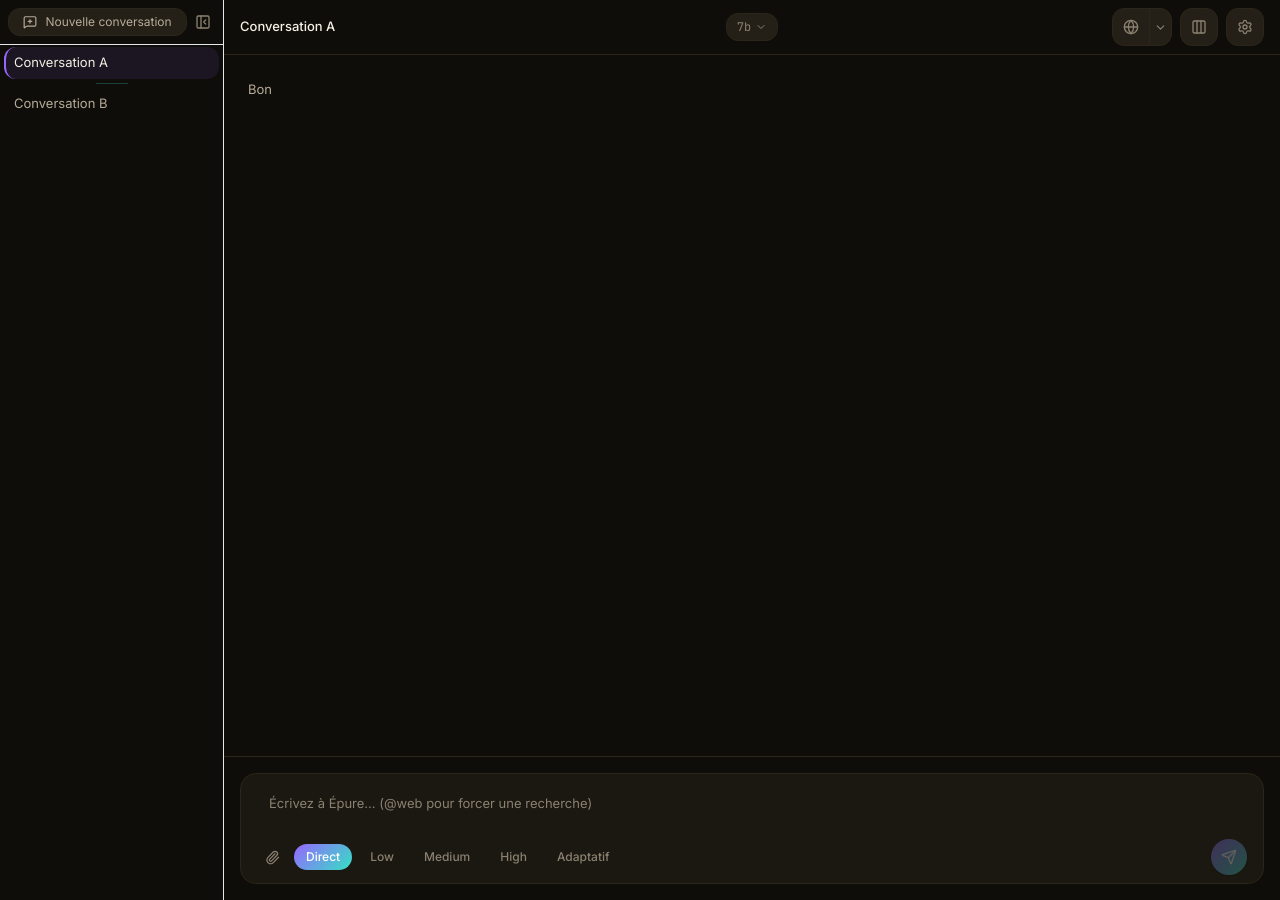
Test: Chat — étanchéité entre conversations › retour APRÈS le `done` : la relecture normale (bascule de fil) suffit déjà
Click the button titled "Conversation B". click: click(92, 103)
box: left=14, top=94, right=171, bottom=113
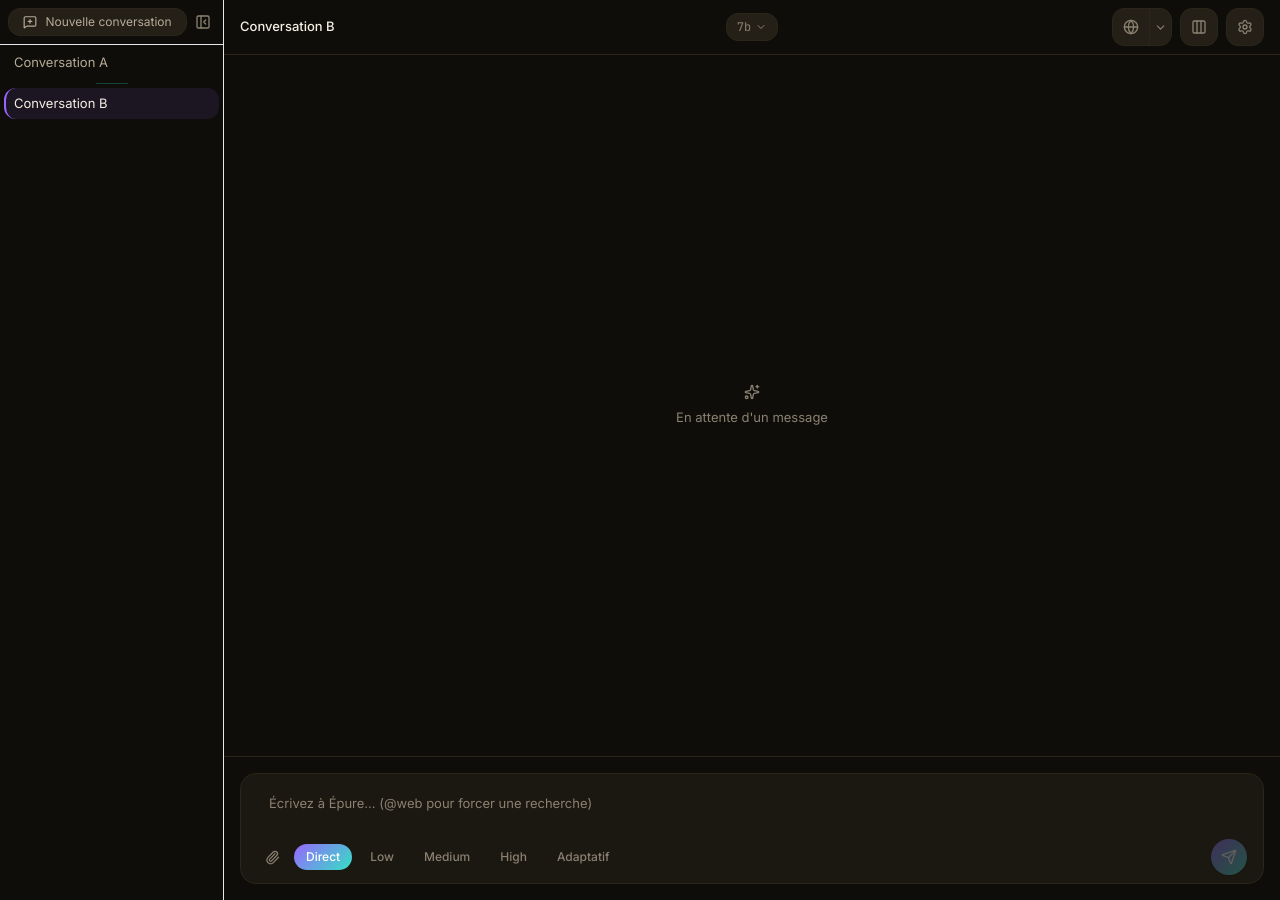
Click the button titled "Conversation A". click: click(92, 63)
box: left=14, top=53, right=171, bottom=72
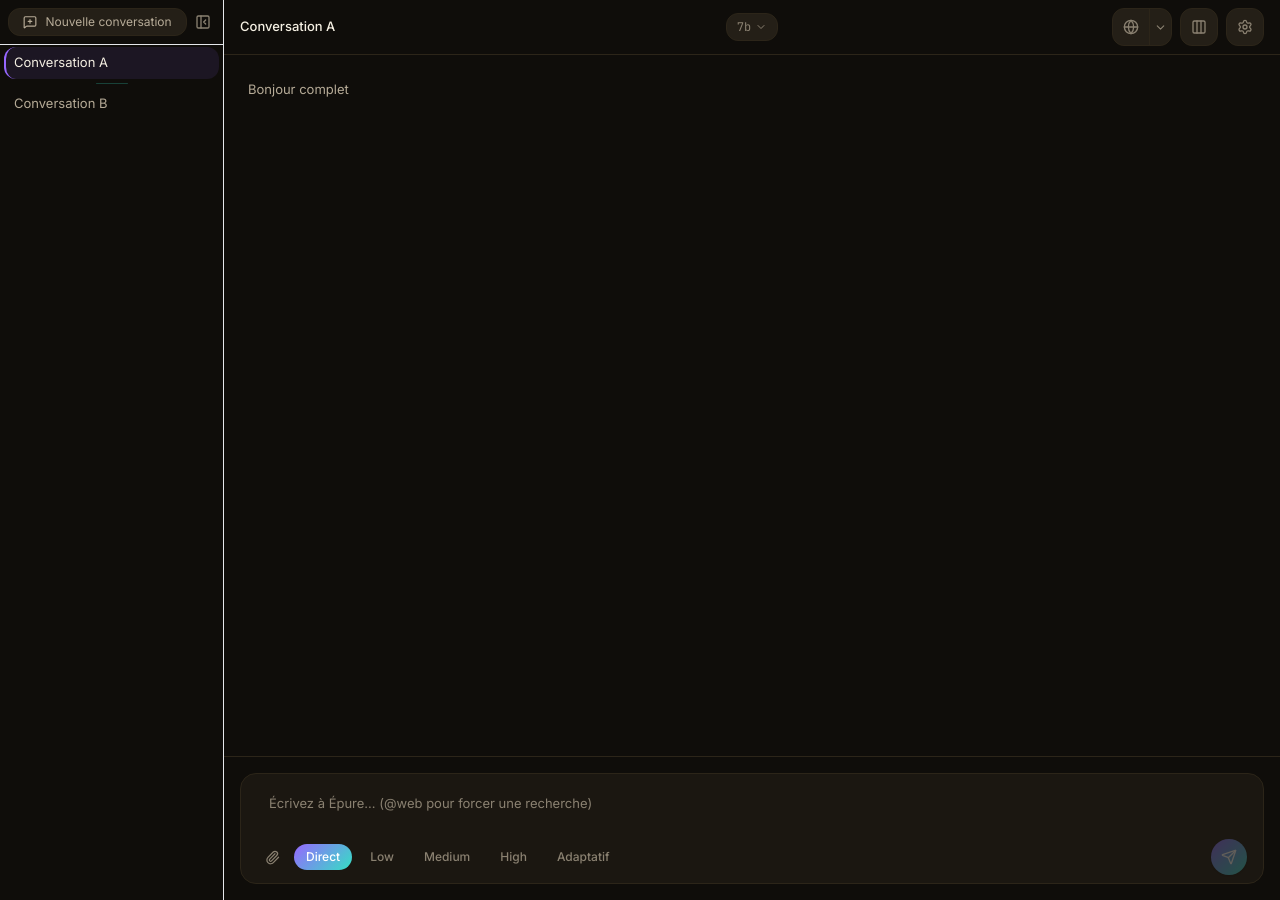
Check: the text "Bonjour complet" is shown, box left=248, top=79, right=349, bottom=100
